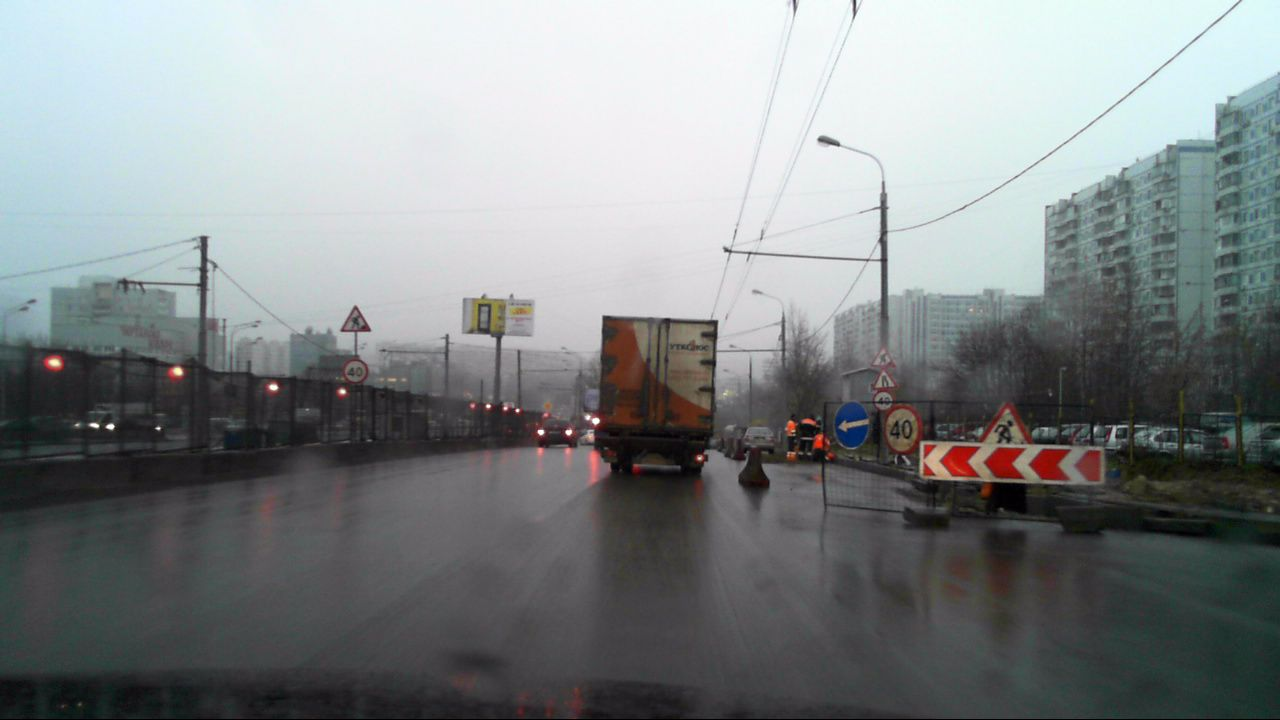Turn Left: (834, 401, 870, 448)
speed_warning_40: (873, 390, 893, 411)
